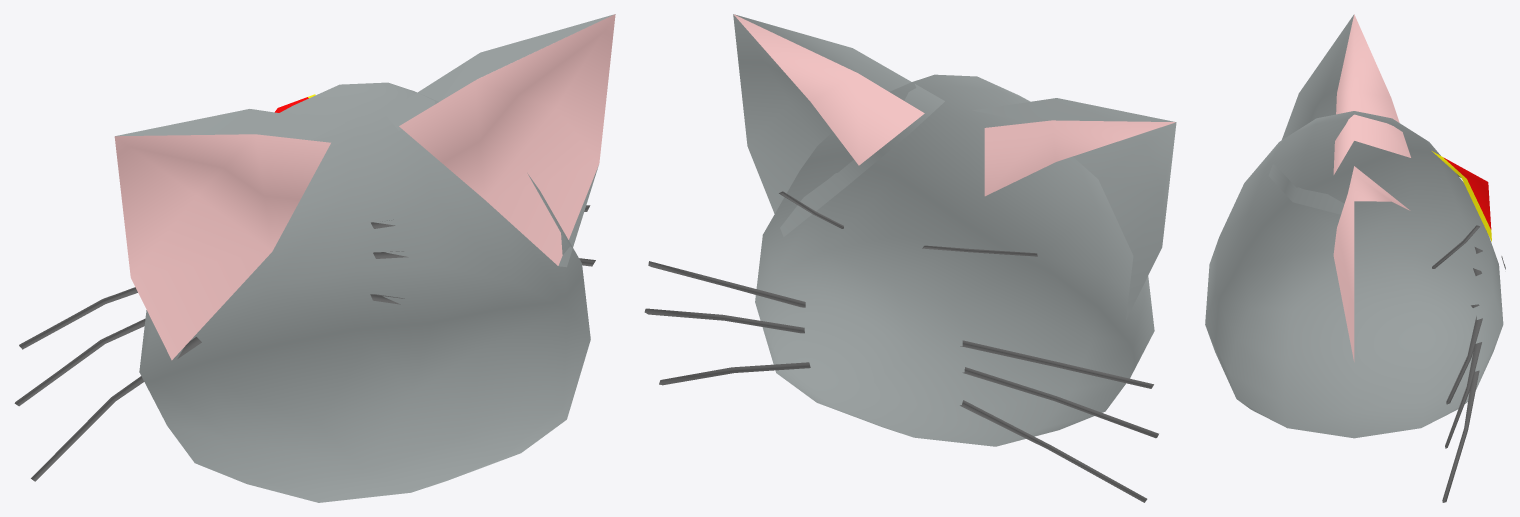
File: ps2_save-icons_galaxyangeliimugenkairounokagi.glb
The picture shows the model from 3 angles, left to right: view 1: azimuth 30°, elevation 25°; view 2: azimuth 150°, elevation 25°; view 3: azimuth 270°, elevation 25°; orthographic projection. The views are drawn at different scales.
Visible parts, largest first — view 1: mc.ico; view 2: mc.ico; view 3: mc.ico.
Boxes of the visible parts, bbox=[...] form: mc.ico: bbox=[14, 14, 615, 502]; mc.ico: bbox=[644, 14, 1176, 502]; mc.ico: bbox=[1205, 14, 1505, 502].
Bounding box in the file's own units: 4.87 × 3.17 × 2.85.
1 material, 1 textured.
